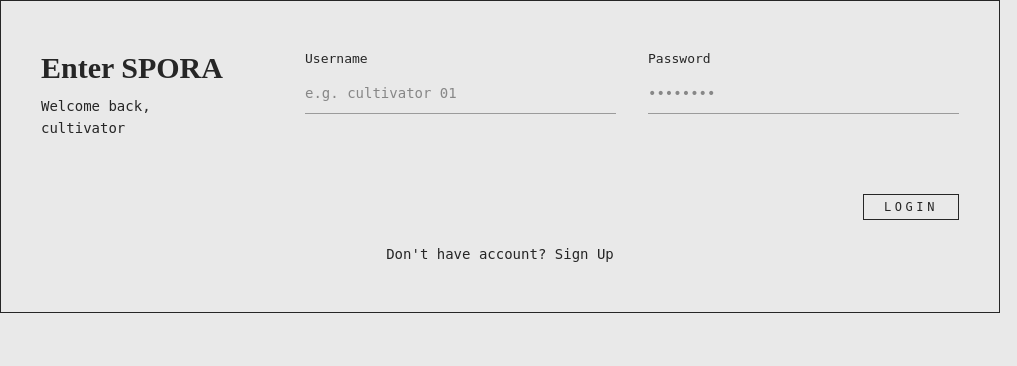
Test: SignInForm › shows server error string when sign-in fails
Type "u" into the field labelled "Username" at (460, 92), box 305,76 -> 616,108
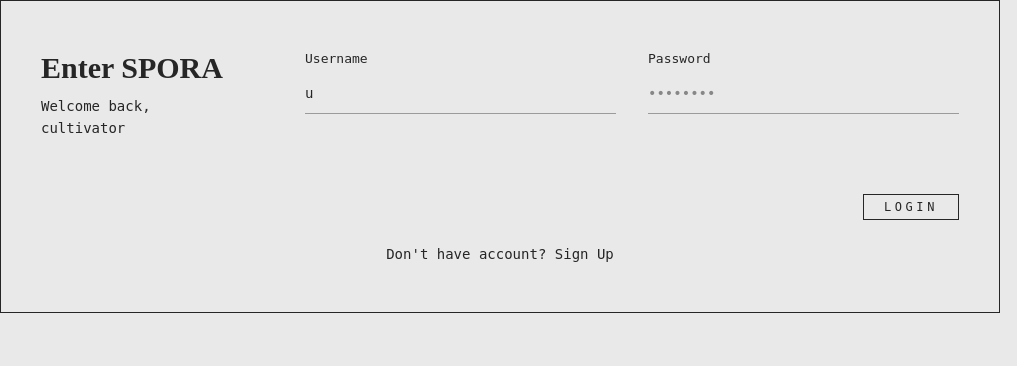
Type "p" into the password field labelled "Password" at (804, 92), box 648,76 -> 959,108
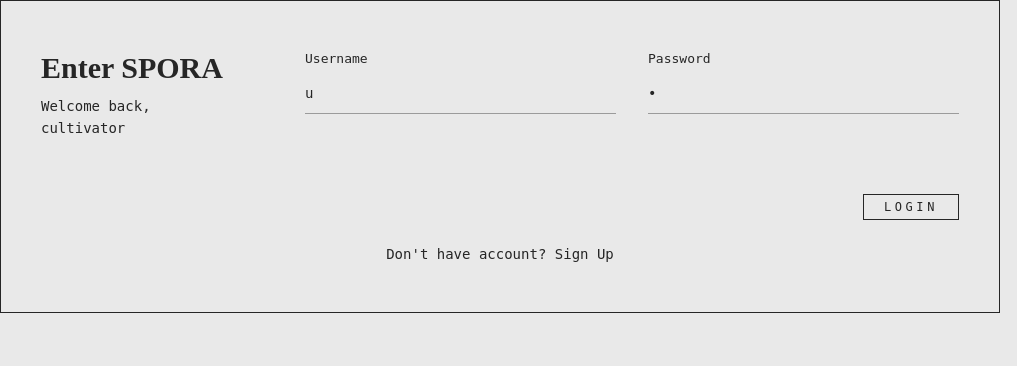
Click the button "LOGIN" at (911, 206), box 863,194 -> 959,220
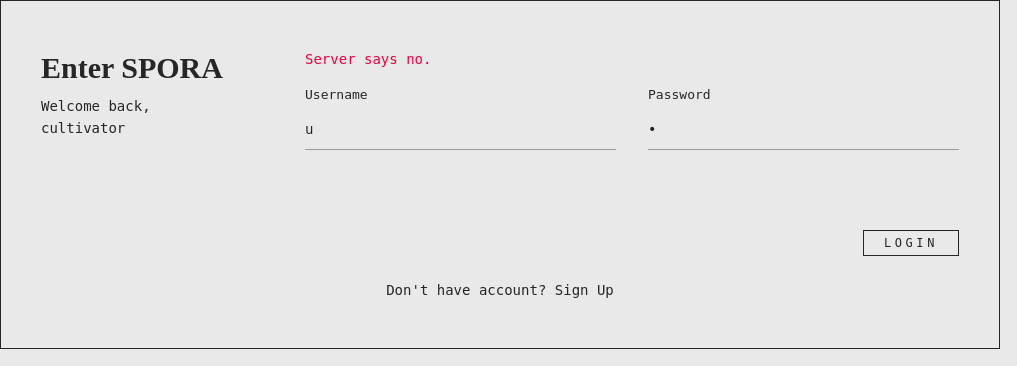
Expected: the text "Server says no." is shown, 305,51 -> 431,67
